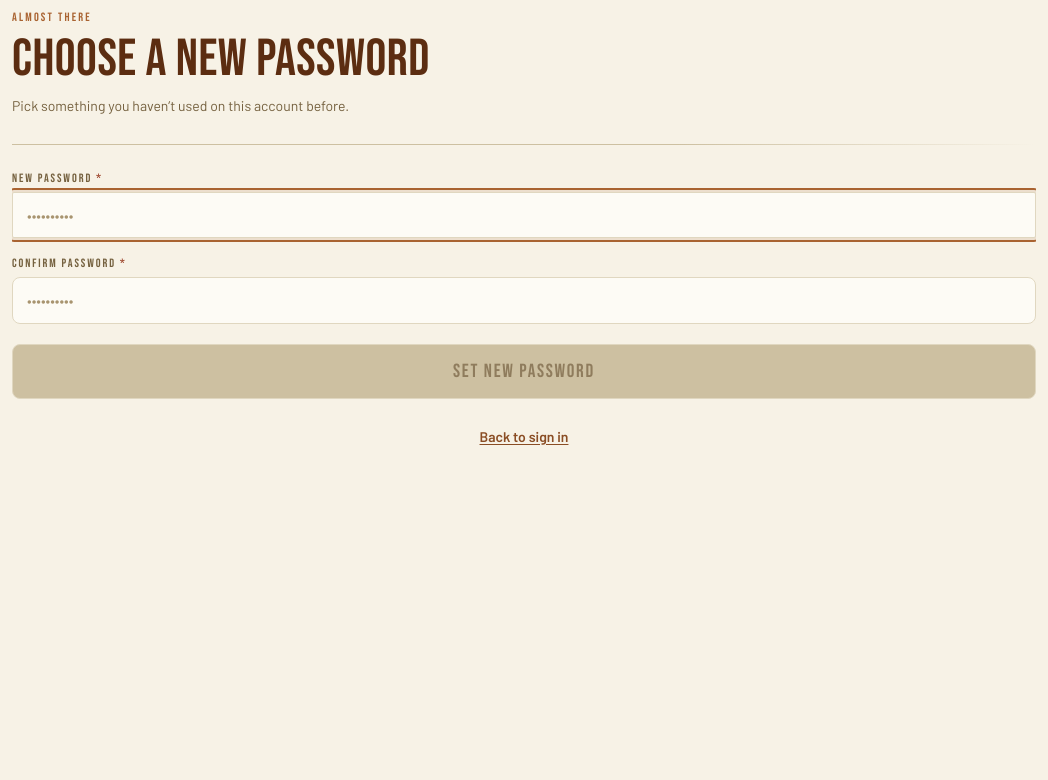
ResetPasswordForm › shows the server’s refusal and keeps the form up
Type "Sherpa!Trail9" into the password field labelled "New password *" at [524, 215], box 12,192 -> 1036,238
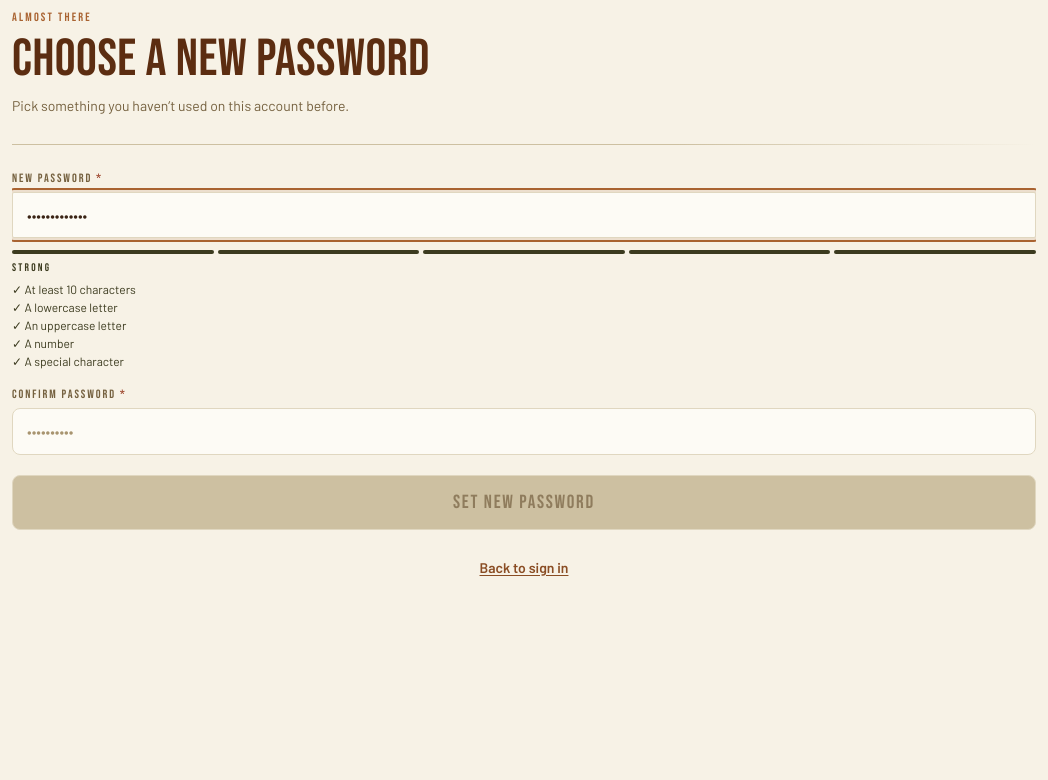
Type "Sherpa!Trail9" into the password field labelled "Confirm password *" at [524, 432], box 12,408 -> 1036,455
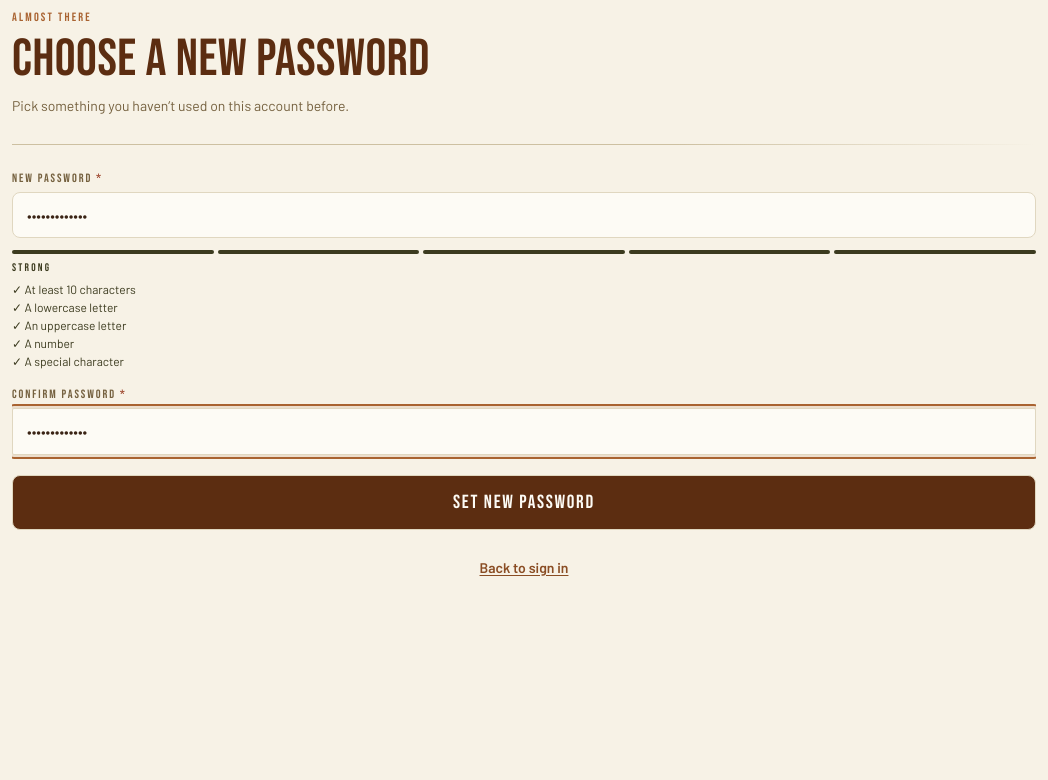
Click the button "Set new password" at [524, 502], box 12,475 -> 1036,530
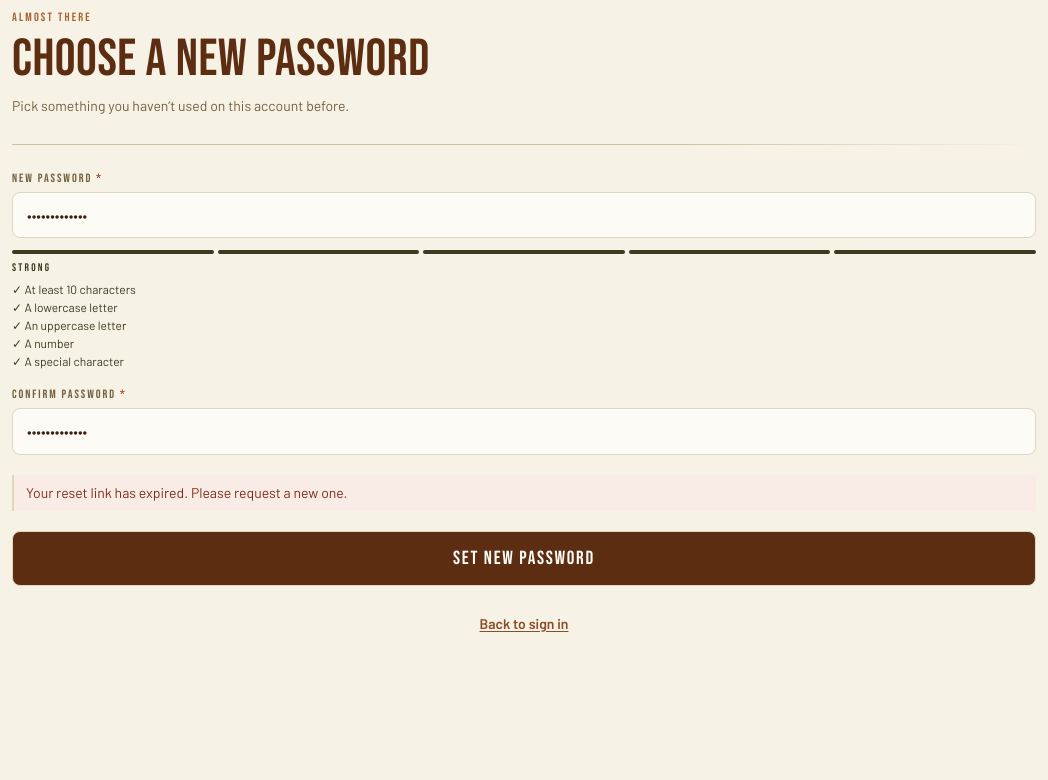
Check: the message shows "expired", box 26,484 -> 347,501
